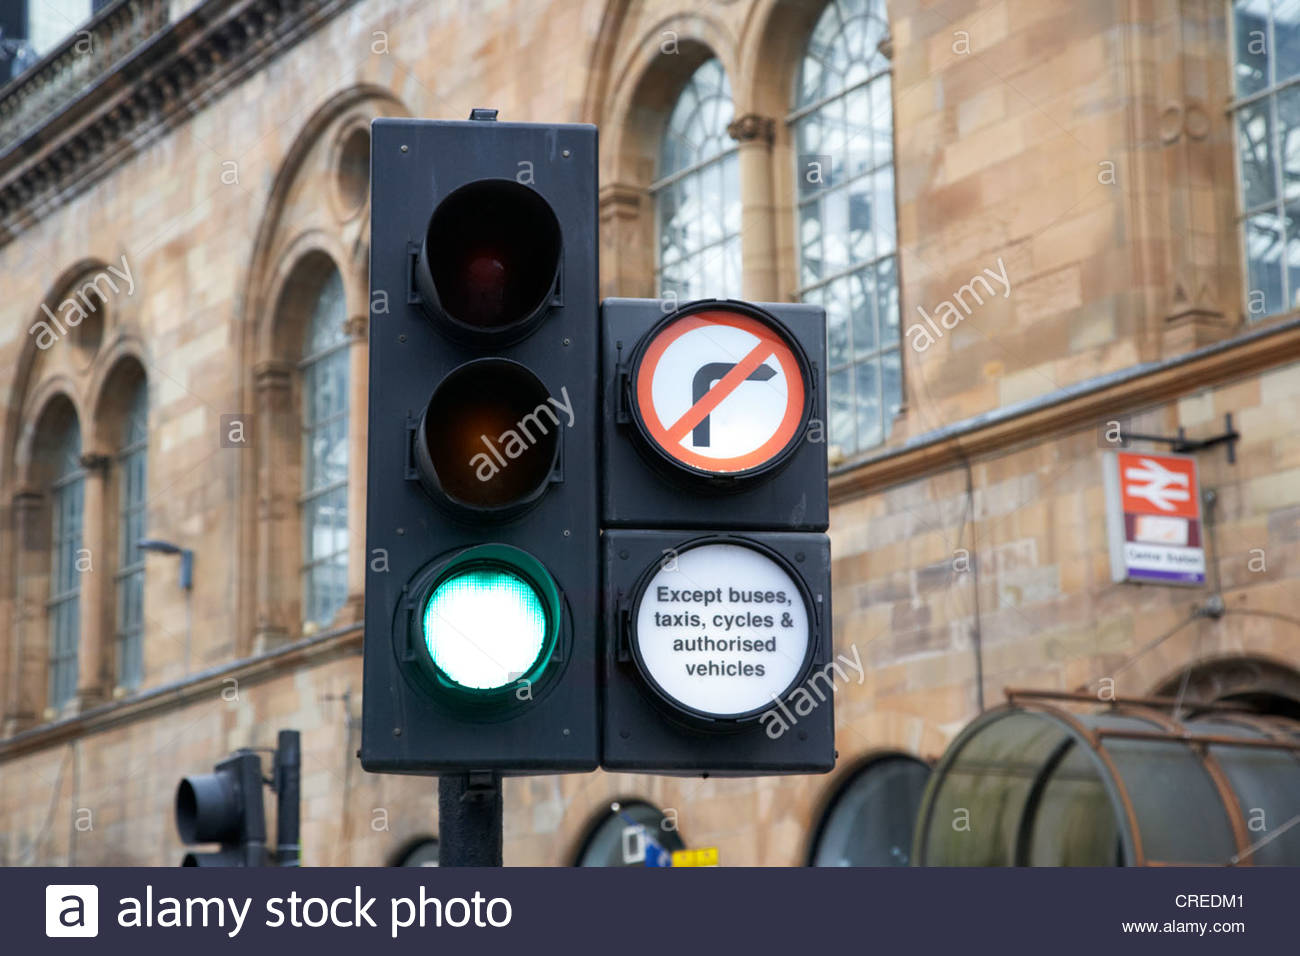No_right_turn: (630, 309, 809, 477)
